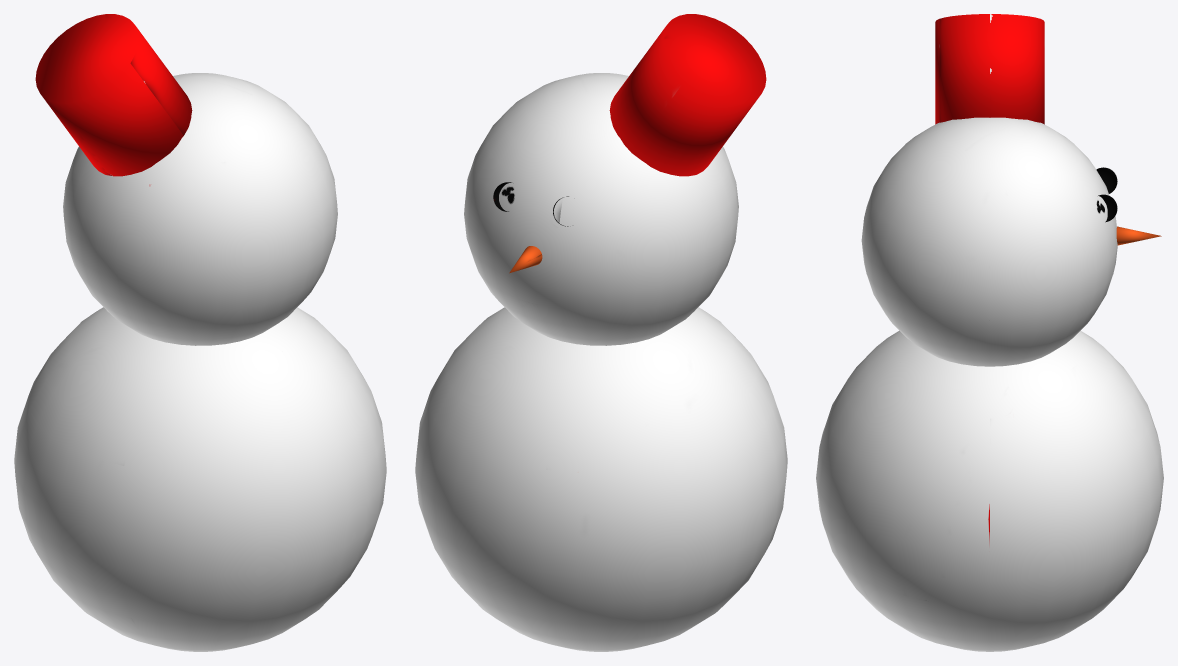
The model's file is Snowman.obj.
3 views of the same model, side by side, from view 1: azimuth 30°, elevation 25°; view 2: azimuth 150°, elevation 25°; view 3: azimuth 270°, elevation 25° (orthographic). The views are drawn at different scales.
Parts seen in each view (by area): view 1: 球; view 2: 球; view 3: 球.
Part boxes in pixels (x1,y1,x2,y2): 球: (14, 14, 386, 651); 球: (415, 14, 787, 651); 球: (816, 14, 1163, 651).
Size of the model in its own units: 2 by 3.74 by 2.
1 material, 1 textured.
